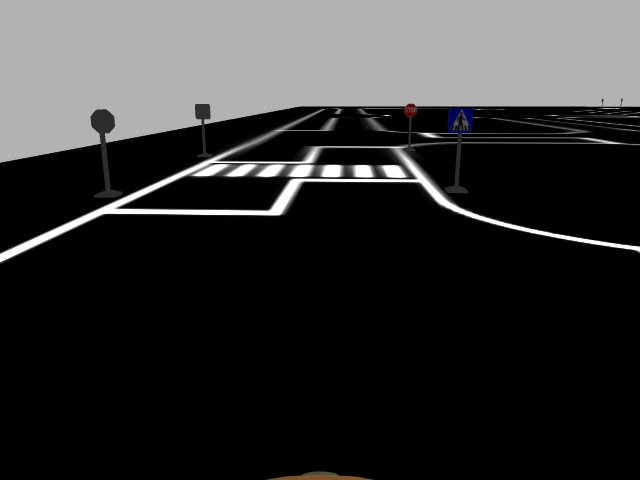crosswalk: (446, 105, 476, 135)
